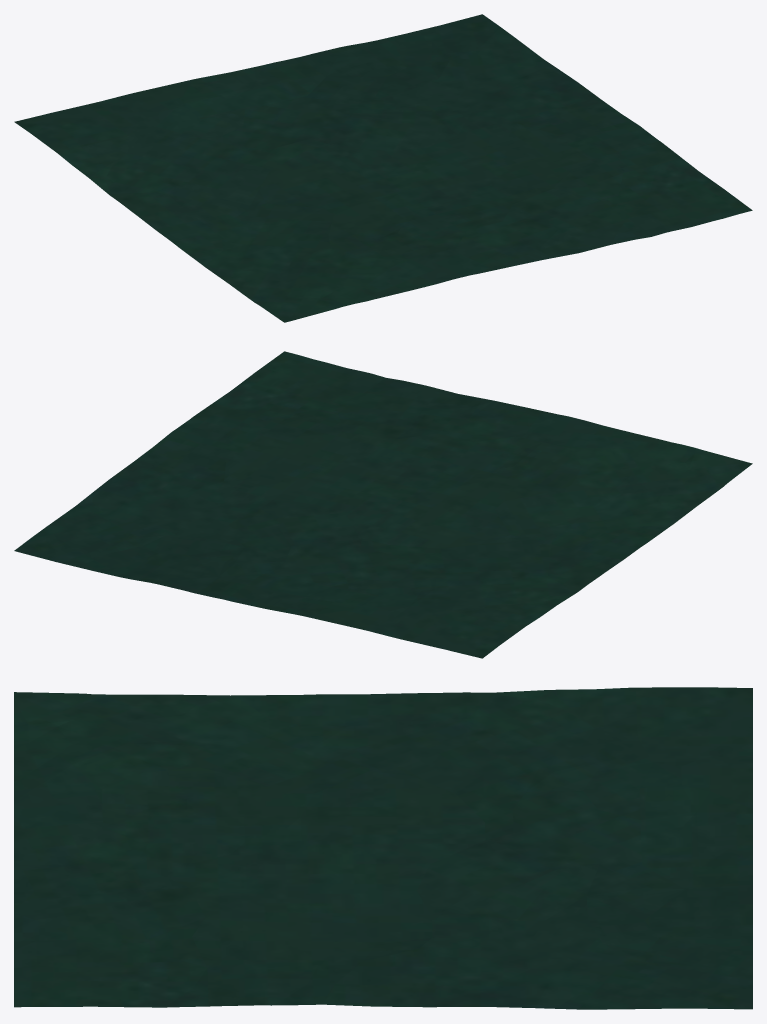
3 renders of one model, top to bottom at view 1: azimuth 30°, elevation 25°; view 2: azimuth 150°, elevation 25°; view 3: azimuth 270°, elevation 25°, orthographic. The views are drawn at different scales.
Size of the model in its own units: 52.22 by 0.9313 by 52.22.
Materials: 2 (2 with a texture image).
